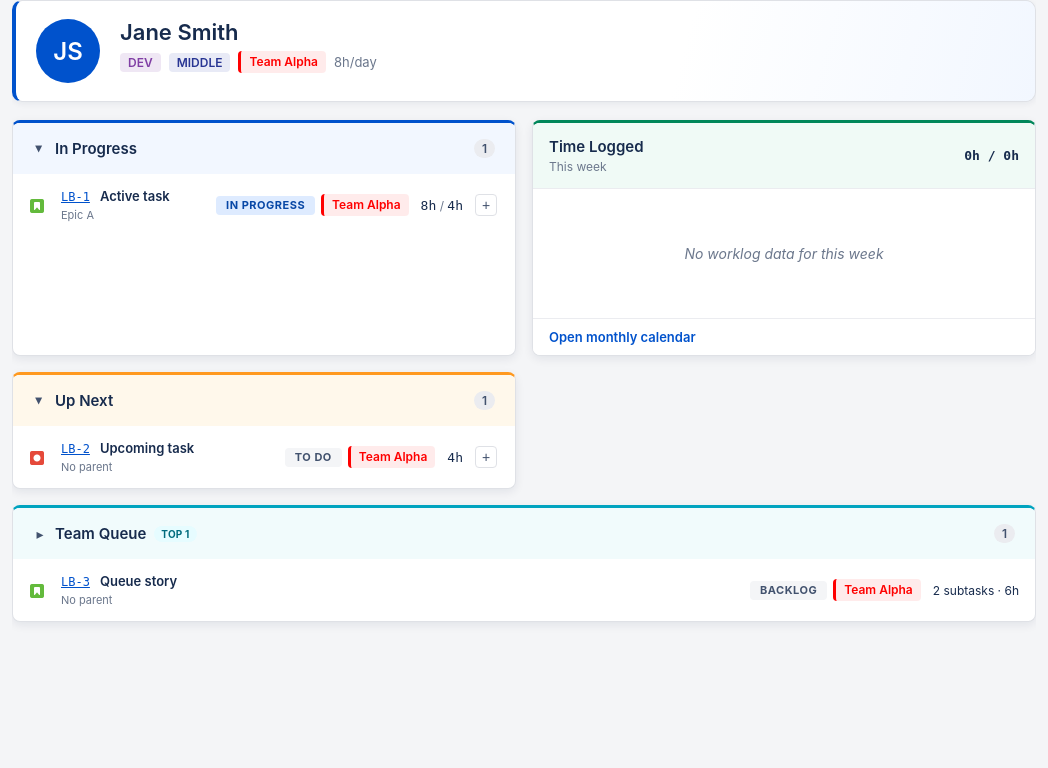
Test: MyWorkPage › collapses and expands a task section independently of the others
Check: the link "LB-1" is shown, box 61,190 -> 90,204
Click the button "▸ In Progress 1": (96, 148) 13,123 -> 515,174
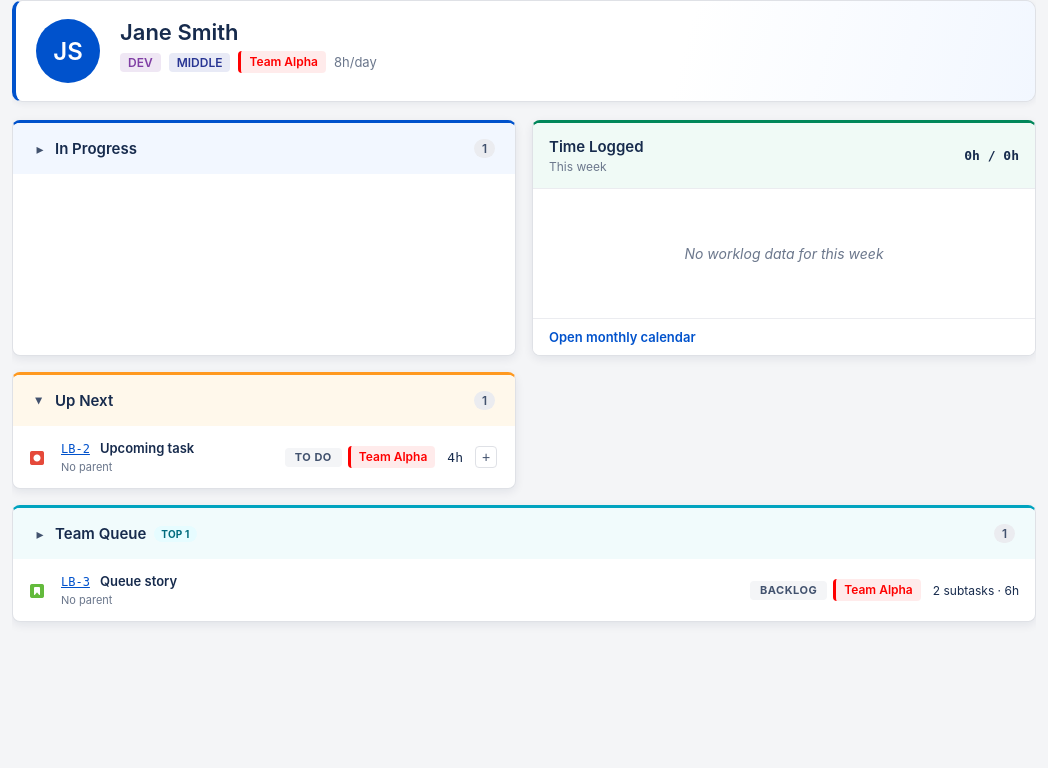
Check: the link "LB-2" is shown, box 61,442 -> 90,456
Check: the button "▸ In Progress 1" is collapsed
Check: the link "LB-1" is gone
Click the button "▸ In Progress 1": (96, 148) 13,123 -> 515,174
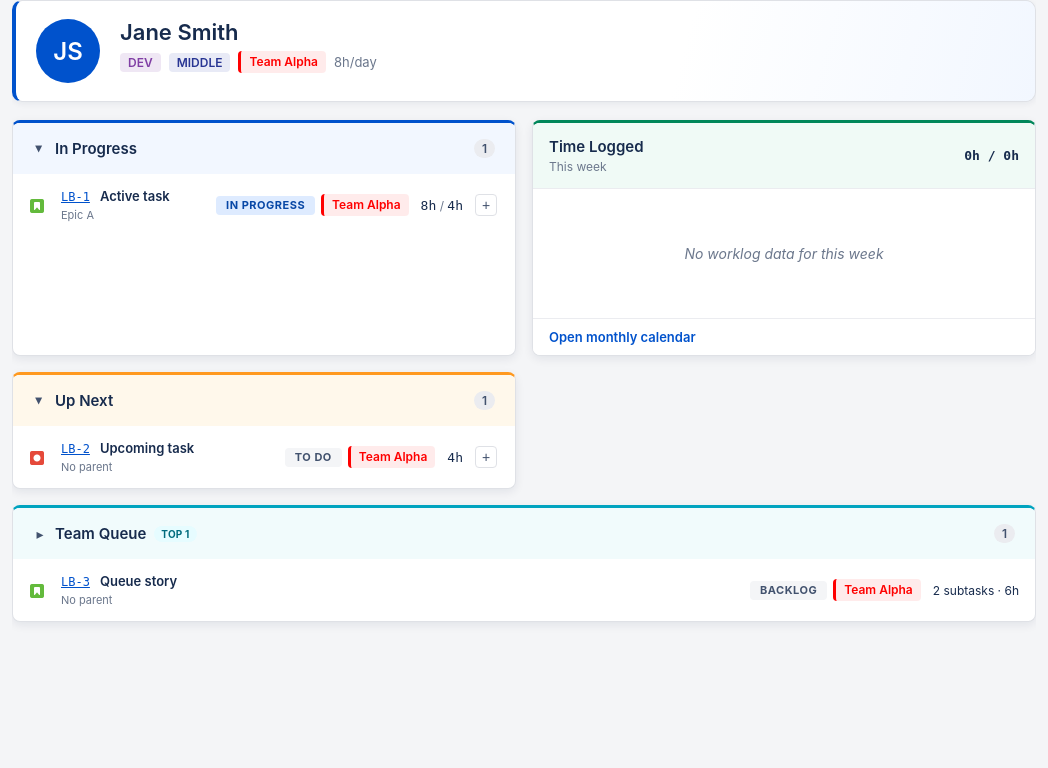
Check: the button "▸ In Progress 1" is expanded, box 13,123 -> 515,174
Check: the link "LB-1" is shown, box 61,190 -> 90,204
